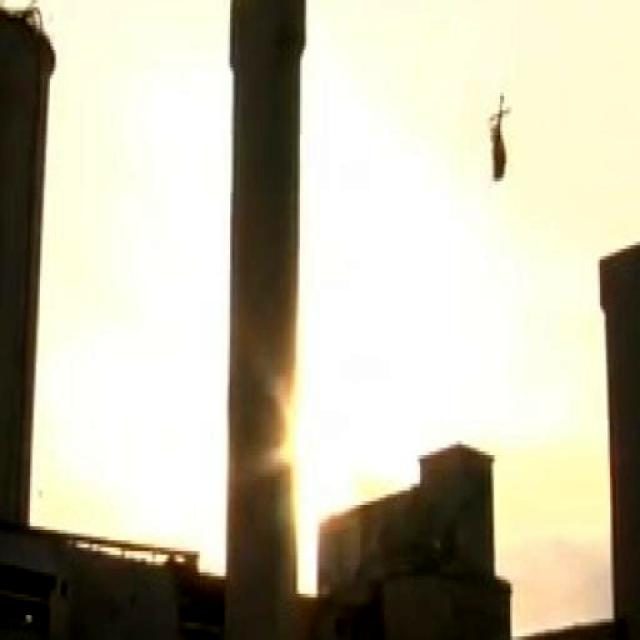drone: (488, 89, 514, 186)
